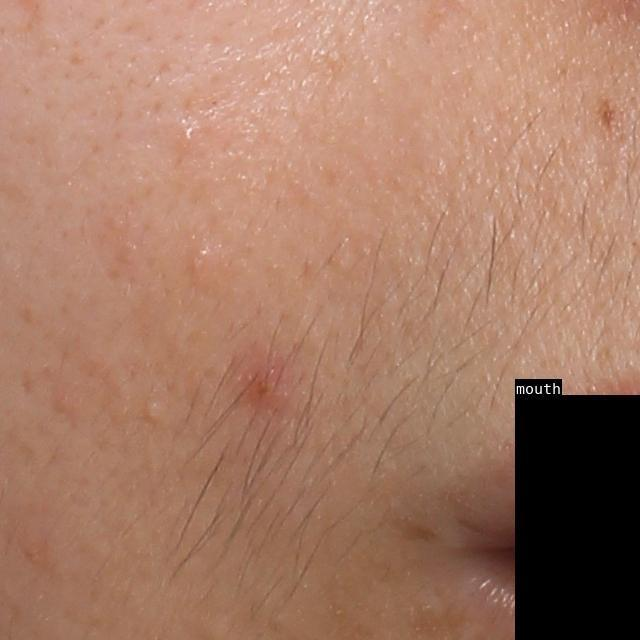comedo: (138, 398, 171, 426), (177, 120, 196, 150)
papule: (239, 355, 289, 415)
